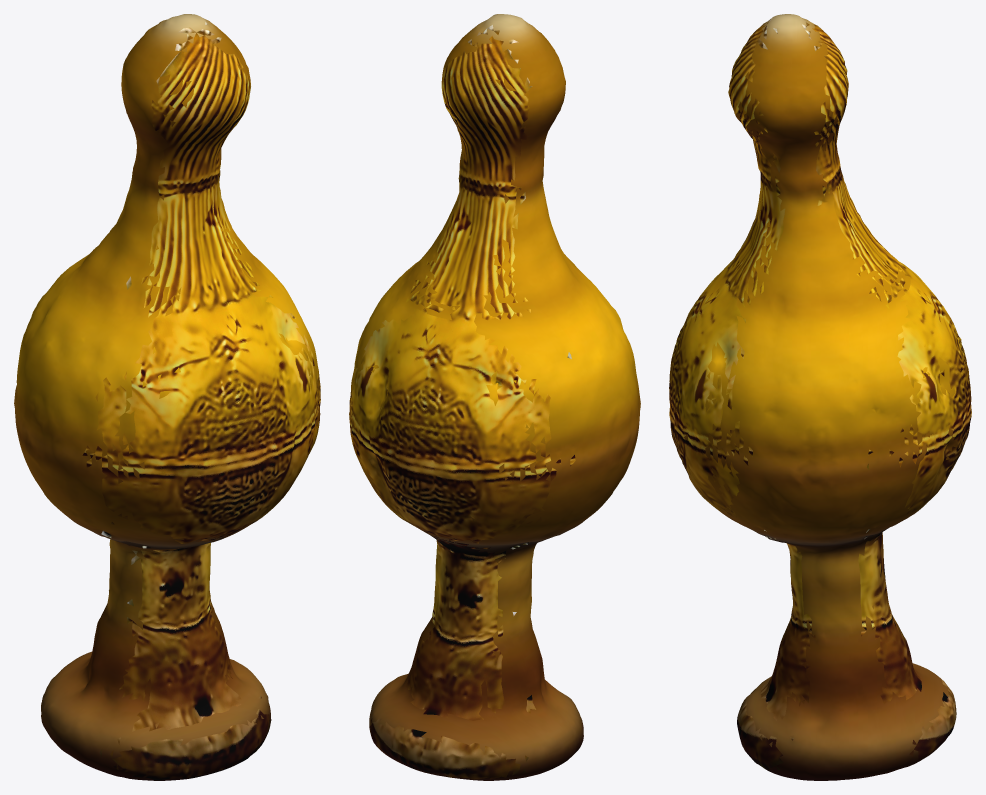
Rendered from kfl-2290.glb.
3 renders of one model, left to right at view 1: azimuth 30°, elevation 25°; view 2: azimuth 150°, elevation 25°; view 3: azimuth 270°, elevation 25°, orthographic. The views are drawn at different scales.
Visible parts, largest first — view 1: kfl-2290; view 2: kfl-2290; view 3: kfl-2290.
Boxes of the visible parts, x1,y1,x2,y2 form: kfl-2290: (14,14,320,780); kfl-2290: (349,14,640,780); kfl-2290: (669,14,971,780).
Bounding box in the file's own units: 0.3721 × 0.9962 × 0.3739.
Materials: 4 (4 with a texture image).
